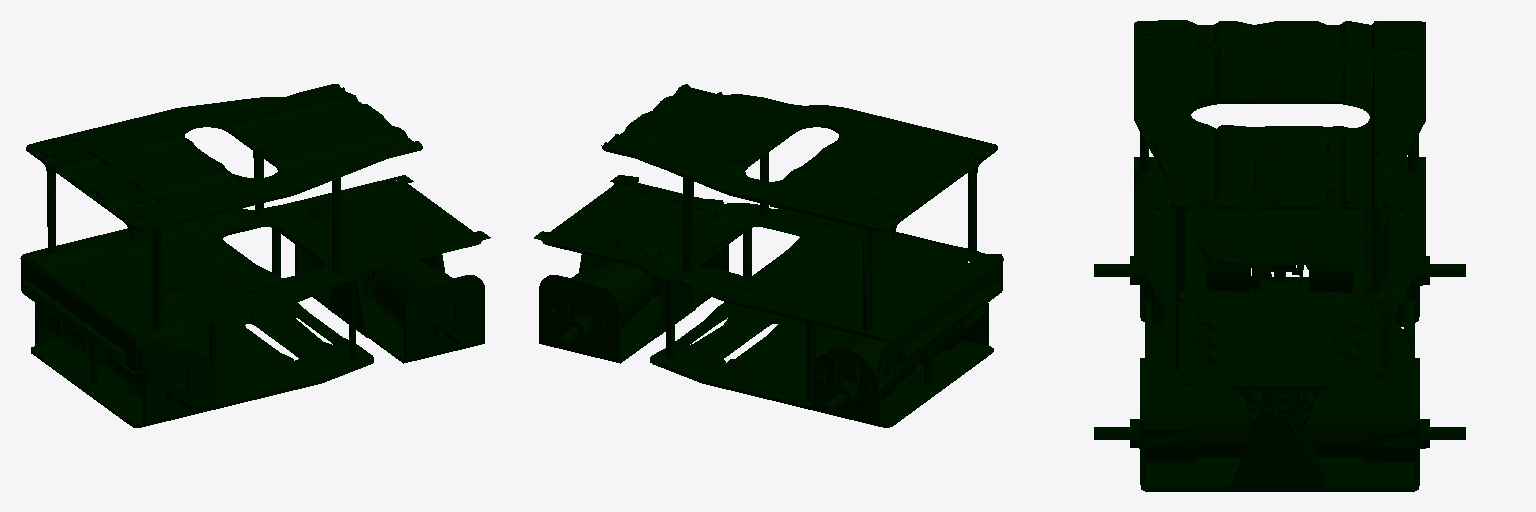
The robot description file, URDF, robot "prodigimover-small":
<?xml version="1.0"?>

<robot name="prodigimover-small" xmlns:xacro="http://www.ros.org/wiki/xacro">
    <link name="robot_footprint"/>
    <link name="imu_link"/>
    <link name="base_link">
        <inertial>
            <origin xyz="0.00498197982182523 5.70233829969297E-05 -0.0121008098068578" rpy="0 0 0"/>
            <mass value="0.486218814966626"/>
            <inertia
                    ixx="0.00196277727666921"
                    ixy="2.50447049446755E-07"
                    ixz="0.000140534767811098"
                    iyy="0.00457256033711368"
                    iyz="2.68618064993882E-07"
                    izz="0.00493927269870476"/>
        </inertial>
        <visual>
            <origin xyz="-0.1125 -0.075 -0.054" rpy="0 0 0"/>
            <geometry>
                <mesh filename="package://prodigimover-small_description/meshes/base_link.STL" />
            </geometry>
            <material name="">
                <color rgba="0 0.1 0 1"/>
            </material>
        </visual>
        <collision>
            <origin xyz="-0.1125 -0.075 -0.054" rpy="0 0 0"/>
            <geometry>
                <mesh filename="package://prodigimover-small_description/meshes/base_link.STL"/>
            </geometry>
        </collision>
    </link>
    <joint name="base_joint" type="fixed">
        <parent link="robot_footprint"/>
        <child link="base_link"/>
        <origin xyz="0.0 0.0 0.0815" rpy="0 0 0"/>
    </joint>
    <joint name="base_imu" type="fixed">
        <parent link="base_link"/>
        <child link="imu_link"/>
        <origin xyz="-0.06 0.01 0.01" rpy="0 3.1415 1.5707"/>
    </joint>
    <link name="wheel_front_right_link">
        <inertial>
            <origin xyz="1.9051E-06 -2.3183E-07 -0.00064079" rpy="0 0 0"/>
            <mass value="0.051532"/>
            <inertia ixx="1.4595E-05" ixy="-4.3975E-10" ixz="4.415E-10"
                     iyy="1.4594E-05" iyz="-1.7476E-09" izz="2.4264E-05"/>
        </inertial>
        <visual>
            <origin xyz="0 0 -0.01" rpy="0 0 0"/>
            <geometry>
                <mesh filename="package://prodigimover-small_description/meshes/front_right_wheel.STL"/>
            </geometry>
            <material name="">
                <color rgba="0.7 0.7 0.7 1"/>
            </material>
        </visual>
        <collision>
            <origin xyz="0 0 -0.01" rpy="0 0 0"/>
            <geometry>
                <mesh filename="package://prodigimover-small_description/meshes/front_right_wheel.STL"/>
            </geometry>
        </collision>
    </link>
    <joint name="wheel_front_right_joint" type="continuous">
        <origin xyz="0.08 -0.0845 -0.0389" rpy="1.5707 0 3.1415"/>
        <parent link="base_link"/>
        <child link="wheel_front_right_link"/>
        <axis xyz="0 0 1" rpy="0 0 0"/>
        <limit effort="100" velocity="1"/>
    </joint>
    <link name="wheel_front_left_link">
        <inertial>
            <origin xyz="2.3728E-06 -9.4228E-07 0.00064068" rpy="0 0 0"/>
            <mass value="0.051543"/>
            <inertia ixx="1.4597E-05" ixy="-4.7945E-10" ixz="-2.4786E-10"
                     iyy="1.4598E-05" iyz="1.7972E-09" izz="2.4267E-05"/>
        </inertial>
        <visual>
            <origin xyz="0 0 0.01" rpy="0 0 0"/>
            <geometry>
                <mesh filename="package://prodigimover-small_description/meshes/front_left_wheel.STL"/>
            </geometry>
            <material name="">
                <color rgba="0.7 0.7 0.7 1"/>
            </material>
        </visual>
        <collision>
            <origin xyz="0 0 0.01" rpy="0 0 0"/>
            <geometry>
                <mesh filename="package://prodigimover-small_description/meshes/front_left_wheel.STL"/>
            </geometry>
        </collision>
    </link>
    <joint name="wheel_front_left_joint" type="continuous">
        <origin xyz="0.08 0.084492 -0.0389" rpy="1.5707 0 3.1415"/>
        <parent link="base_link"/>
        <child link="wheel_front_left_link"/>
        <axis xyz="0 0 1" rpy="0 0 0"/>
        <limit effort="100" velocity="1"/>
    </joint>
    <link name="wheel_rear_right_link">
        <inertial>
            <origin xyz="-1.75924169923403E-06 1.28388821071107E-06 -0.000590549296238266" rpy="0 0 0"/>
            <mass value="0.051540174053366"/>
            <inertia ixx="1.45974152250002E-05" ixy="1.94850559178397E-10" ixz="-1.61846387282284E-09"
                     iyy="1.4596501955693E-05" iyz="-6.27904057423818E-10" izz="2.42663091380451E-05"/>
        </inertial>
        <visual>
            <origin xyz="0 0 -0.01" rpy="0 0 0"/>
            <geometry>
                <mesh filename="package://prodigimover-small_description/meshes/back_right_wheel.STL"/>
            </geometry>
            <material name="">
                <color rgba="0.7 0.7 0.7 1"/>
            </material>
        </visual>
        <collision>
            <origin xyz="0 0 -0.01" rpy="0 0 0"/>
            <geometry>
                <mesh filename="package://prodigimover-small_description/meshes/back_right_wheel.STL"/>
            </geometry>
        </collision>
    </link>
    <joint name="wheel_rear_right_joint" type="continuous">
        <origin xyz="-0.08 -0.0845 -0.03946" rpy="1.5707 0 3.1415"/>
        <parent link="base_link"/>
        <child link="wheel_rear_right_link"/>
        <axis xyz="0 0 1" rpy="0 0 0"/>
        <limit effort="100" velocity="1"/>
    </joint>
    <link name="wheel_rear_left_link">
        <inertial>
            <origin xyz="-4.01213085227115E-07 2.04910264598596E-06 0.000590775697051377" rpy="0 0 0"/>
            <mass value="0.0515309299357028"/>
            <inertia ixx="1.45942986129926E-05" ixy="-3.19787215398093E-10" ixz="1.74943062058915E-09"
                     iyy="1.45948727598913E-05" iyz="1.61769812110049E-10" izz="2.4263683888153E-05"/>
        </inertial>
        <visual>
            <origin xyz="0 0 0.01" rpy="0 0 0"/>
            <geometry>
                <mesh filename="package://prodigimover-small_description/meshes/back_left_wheel.STL"/>
            </geometry>
            <material name="">
                <color rgba="0.7 0.7 0.7 1"/>
            </material>
        </visual>
        <collision>
            <origin xyz="0 0 0.01" rpy="0 0 0"/>
            <geometry>
                <mesh filename="package://prodigimover-small_description/meshes/back_left_wheel.STL"/>
            </geometry>
        </collision>
    </link>
    <joint name="wheel_rear_left_joint" type="continuous">
        <origin xyz="-0.08 0.084492 -0.03954" rpy="1.5707 0 3.1415"/>
        <parent link="base_link"/>
        <child link="wheel_rear_left_link"/>
        <axis xyz="0 0 1" rpy="0 0 0"/>
        <limit effort="100" velocity="1"/>
    </joint>
    <link name="laser_link">
        <inertial>
            <origin xyz="-0.0176558922685589 0.000671805271544437 0.0219302095894866" rpy="0 0 0" />
            <mass value="0.0483909504209895" />
            <inertia ixx="1.58456966399128E-05" ixy="-4.23913983850005E-07" ixz="-2.09597897904374E-07"
                     iyy="3.89262522903605E-05" iyz="3.24809725932687E-07" izz="4.86230801106223E-05" />
        </inertial>
        <visual>
            <origin xyz="0 0.045 -0.025" rpy="1.5707 0 0"/>
            <geometry>
                <mesh filename="package://prodigimover-small_description/meshes/ProdigiMover_YDLidar_G2.stl" scale="0.001 0.001 0.001"/>
            </geometry>
            <material name="">
                <color rgba="0.7 0.7 0.7 1"/>
            </material>
        </visual>
        <collision>
            <origin xyz="0 0.045 -0.025" rpy="1.5707 0 0"/>
            <geometry>
                <mesh filename="package://prodigimover-small_description/meshes/ProdigiMover_YDLidar_G2.stl" scale="0.001 0.001 0.001"/>
            </geometry>
        </collision>
    </link>
    <joint name="laser_joint" type="fixed">
        <origin xyz="0.0435 5.25826986680105E-05 0.11" rpy="0 0 0"/>
        <parent link="base_link"/>
        <child link="laser_link"/>
    </joint>
    <link name="camera_link">
        <inertial>
            <origin xyz="0 0 0" rpy="0 0 0"/>
            <mass value="0"/>
            <inertia ixx="0" ixy="0" ixz="0" iyy="0" iyz="0" izz="0"/>
        </inertial>
        <visual>
            <origin xyz="0 0 -0.024" rpy="0 0 1.5707"/>
            <geometry>
                <mesh filename="package://prodigimover-small_description/meshes/ProdigiMover_Zedmini_Camera.stl" scale="0.001 0.001 0.001"/>
            </geometry>
            <material name="">
                <color rgba="0.7 0.7 0.7 1"/>
            </material>
        </visual>
        <collision>
            <origin xyz="0 0 -0.024" rpy="0 0 1.5707"/>
            <geometry>
                <mesh filename="package://prodigimover_description/meshes/ProdigiMover_Zedmini_Camera.stl" scale="0.001 0.001 0.001"/>
            </geometry>
        </collision>
    </link>
    <joint name="camera_joint" type="fixed">
        <origin xyz="0.057105 1.7948E-05 0.03755" rpy="0 0 0"/>
        <parent link="base_link"/>
        <child link="camera_link"/>
    </joint>
            
</robot>

--- Facts derived from the render (not from the file) ---
The picture shows the robot from 3 angles, left to right: view 1: azimuth 30°, elevation 25°; view 2: azimuth 150°, elevation 25°; view 3: azimuth 270°, elevation 25°; orthographic projection.
Model prodigimover-small with 9 links and 8 joints (4 continuous, 4 fixed), rooted at robot_footprint, posed all joints at 0.
Links seen in each view (by area): view 1: base_link; view 2: base_link; view 3: base_link.
Link boxes in pixels (x1,y1,x2,y2): base_link: [20, 84, 490, 427]; base_link: [534, 84, 1003, 427]; base_link: [1094, 20, 1465, 491].
Bounding box of the posed robot: 0.2276 × 0.153 × 0.1181 m (x, y, z).
1 mesh visuals loaded from 7 distinct referenced files (1 binary STL); not drawn: 6 (reference not matched to a file when rendering).